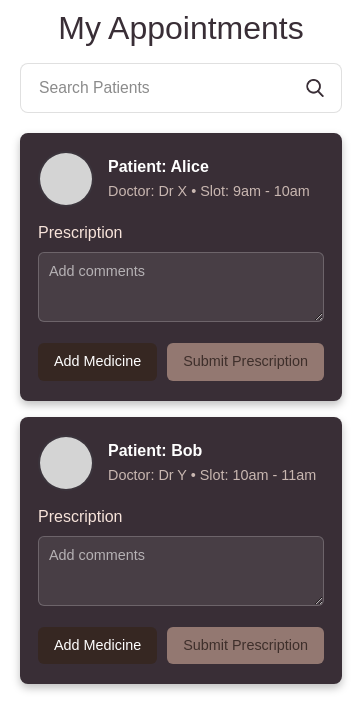
Test case: Appointments › filters appointments by patient name using the search input
Expected: the text "Patient: Alice" is shown, [108,158,209,175]
// Simulate typing "ali" in search box
Type "ali" into the field with placeholder "Search Patients".
click(165, 88); type("ali")  # box [31,70,299,106]
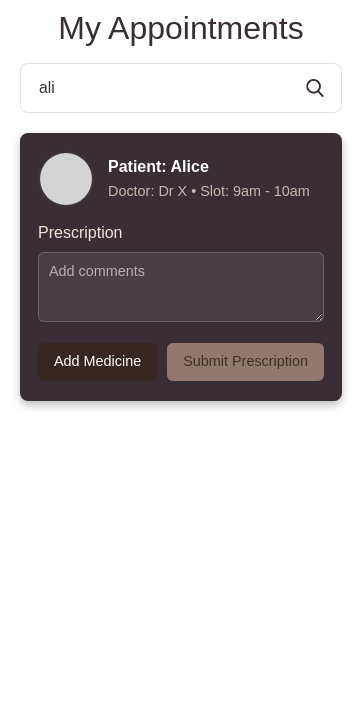
Expected: the text "Patient: Alice" is shown, [108,158,209,175]
Expected: the text "Patient: Bob" is gone
